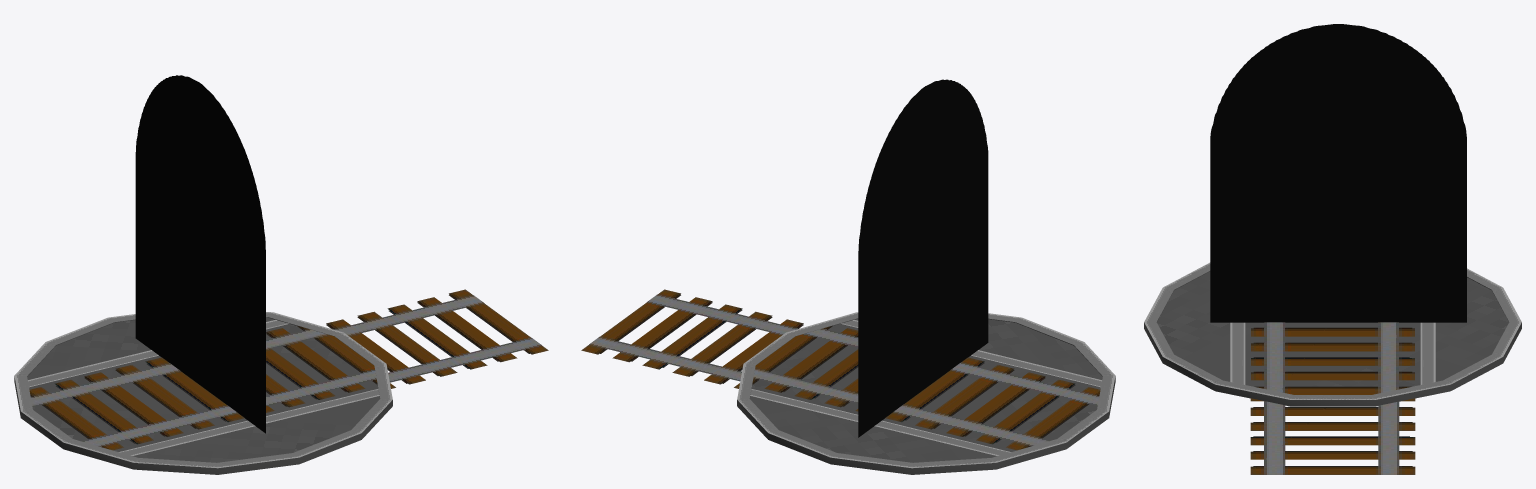
The model's file is travel_turntable.glb.
3 renders of one model, left to right at view 1: azimuth 30°, elevation 25°; view 2: azimuth 150°, elevation 25°; view 3: azimuth 270°, elevation 25°, orthographic.
Parts seen in each view (by area): view 1: turntable1, tunnel1, track_a2; view 2: turntable1, tunnel1, track_a2; view 3: tunnel1, turntable1, track_a2.
Boxes of the visible parts, bbox=[...] form: turntable1: bbox=[14, 312, 392, 474]; tunnel1: bbox=[135, 75, 265, 433]; track_a2: bbox=[326, 289, 548, 384]; turntable1: bbox=[737, 312, 1115, 474]; tunnel1: bbox=[858, 79, 988, 437]; track_a2: bbox=[581, 289, 803, 384]; tunnel1: bbox=[1210, 24, 1466, 322]; turntable1: bbox=[1144, 262, 1521, 406]; track_a2: bbox=[1250, 399, 1415, 474].
Bounding box in the file's own units: 33.7 × 22.06 × 24.
Materials: 3 (3 with a texture image).
